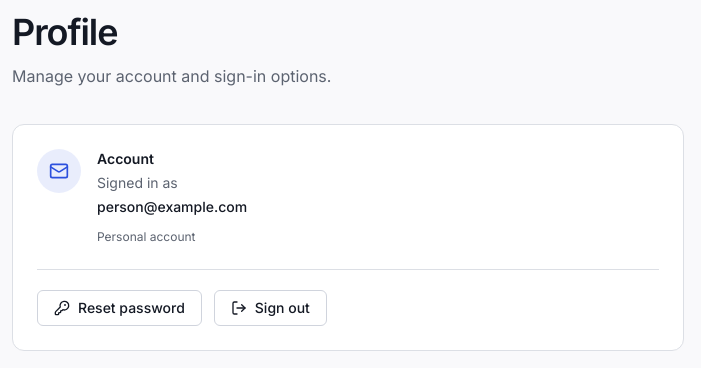
it: Profile page › signs out and returns to login
Step 1. Click the button "Sign out" → (270, 308), box x1=214 y1=290 x2=327 y2=326
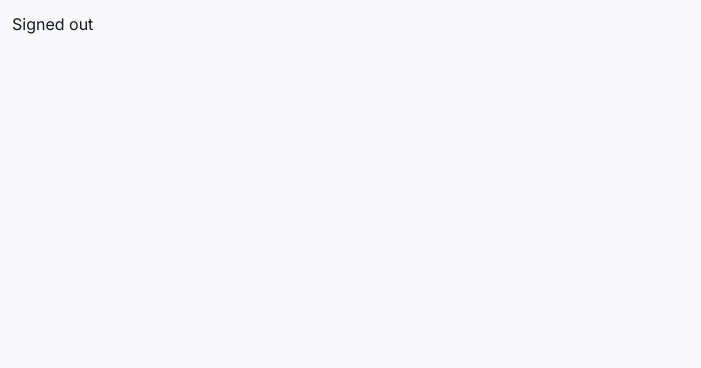
Expected: the text "Signed out" is shown, x1=12 y1=14 x2=93 y2=34
